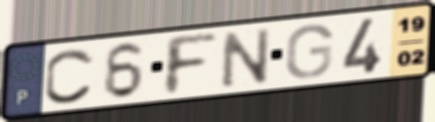4: (340, 15, 386, 77)
6: (102, 39, 147, 101)
C: (42, 46, 97, 106)
F: (161, 31, 221, 98)
G: (282, 21, 336, 81)
N: (220, 25, 273, 91)
